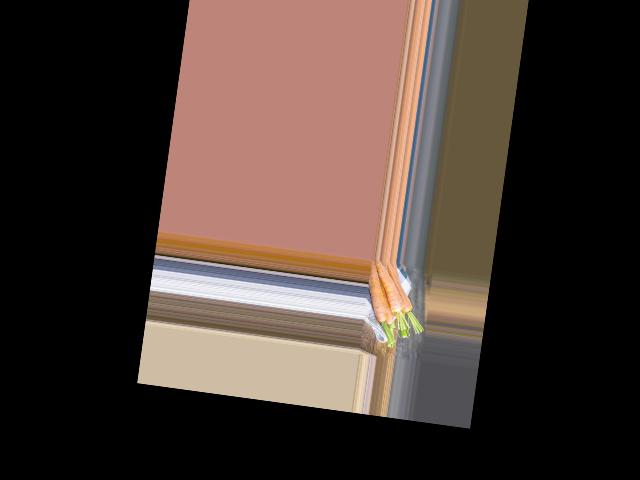carrot: (362, 259, 394, 330)
